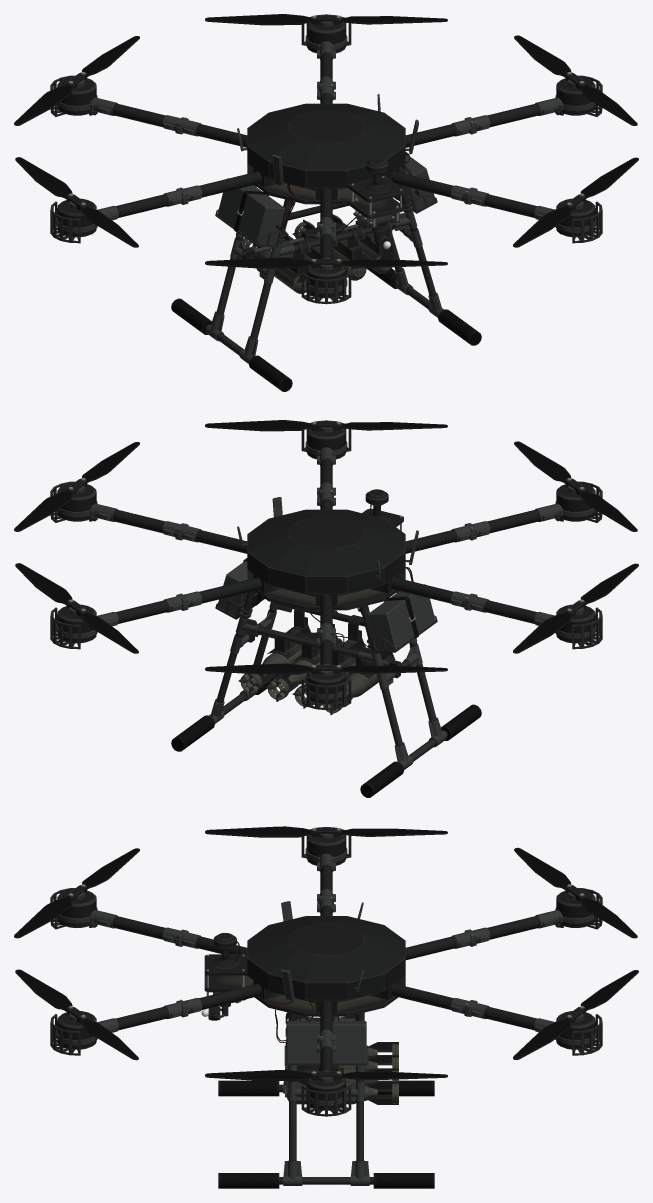
File: drone.glb
3 views of the same model, one above another, from view 1: azimuth 30°, elevation 25°; view 2: azimuth 150°, elevation 25°; view 3: azimuth 270°, elevation 25° (orthographic).
Parts seen in each view (by area): view 1: Body, Blade.003, Blade.001, Blade, Blade.002, Blade.005, Blade.004; view 2: Body, Blade.005, Blade, Blade.003, Blade.004, Blade.002, Blade.001; view 3: Body, Blade.004, Blade.002, Blade, Blade.001, Blade.003, Blade.005.
Part boxes in pixels (x1,y1,x2,y2): Body: (50,14,602,391); Blade.003: (205,257,447,269); Blade.001: (205,14,447,26); Blade: (513,157,638,247); Blade.002: (514,35,637,125); Blade.005: (14,36,139,125); Blade.004: (15,157,138,247); Body: (50,420,602,797); Blade.005: (205,663,447,675); Blade: (205,420,447,432); Blade.003: (514,441,637,531); Blade.004: (513,563,638,653); Blade.002: (14,442,139,531); Blade.001: (15,563,138,653); Body: (50,827,602,1188); Blade.004: (205,826,447,838); Blade.002: (205,1070,447,1082); Blade: (15,969,138,1060); Blade.001: (513,970,638,1059); Blade.003: (14,848,139,938); Blade.005: (514,847,637,938).
Size of the model in its own units: 4.13 by 1.49 by 4.1.
Materials: 1 (1 with a texture image).
